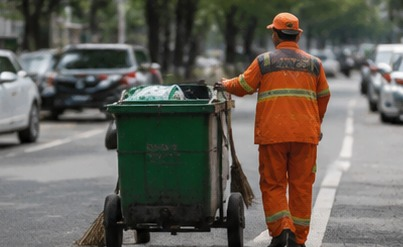helmet: (284, 30, 320, 57)
person: (258, 30, 334, 224)
vehicle: (126, 86, 252, 224)
vest: (258, 72, 330, 168)
